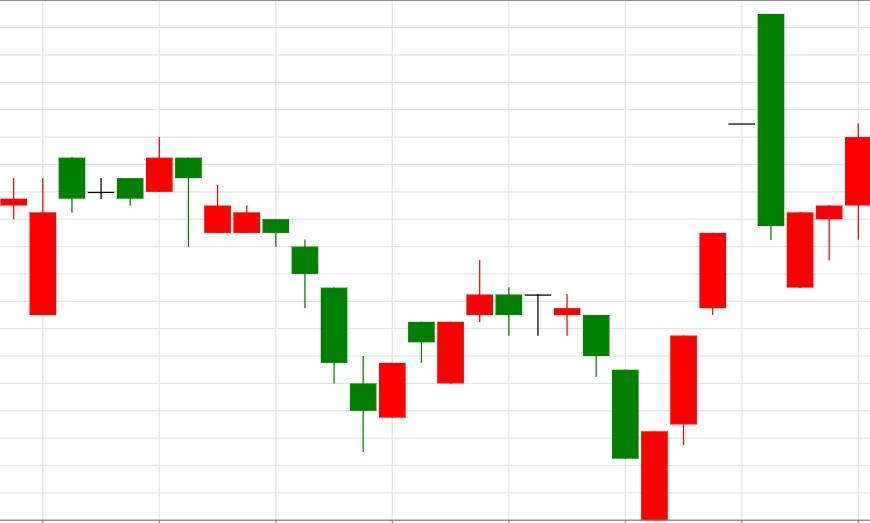hanging_man_fall: (28, 137, 202, 315)
three_white_soldiers_rise: (494, 233, 726, 522)
